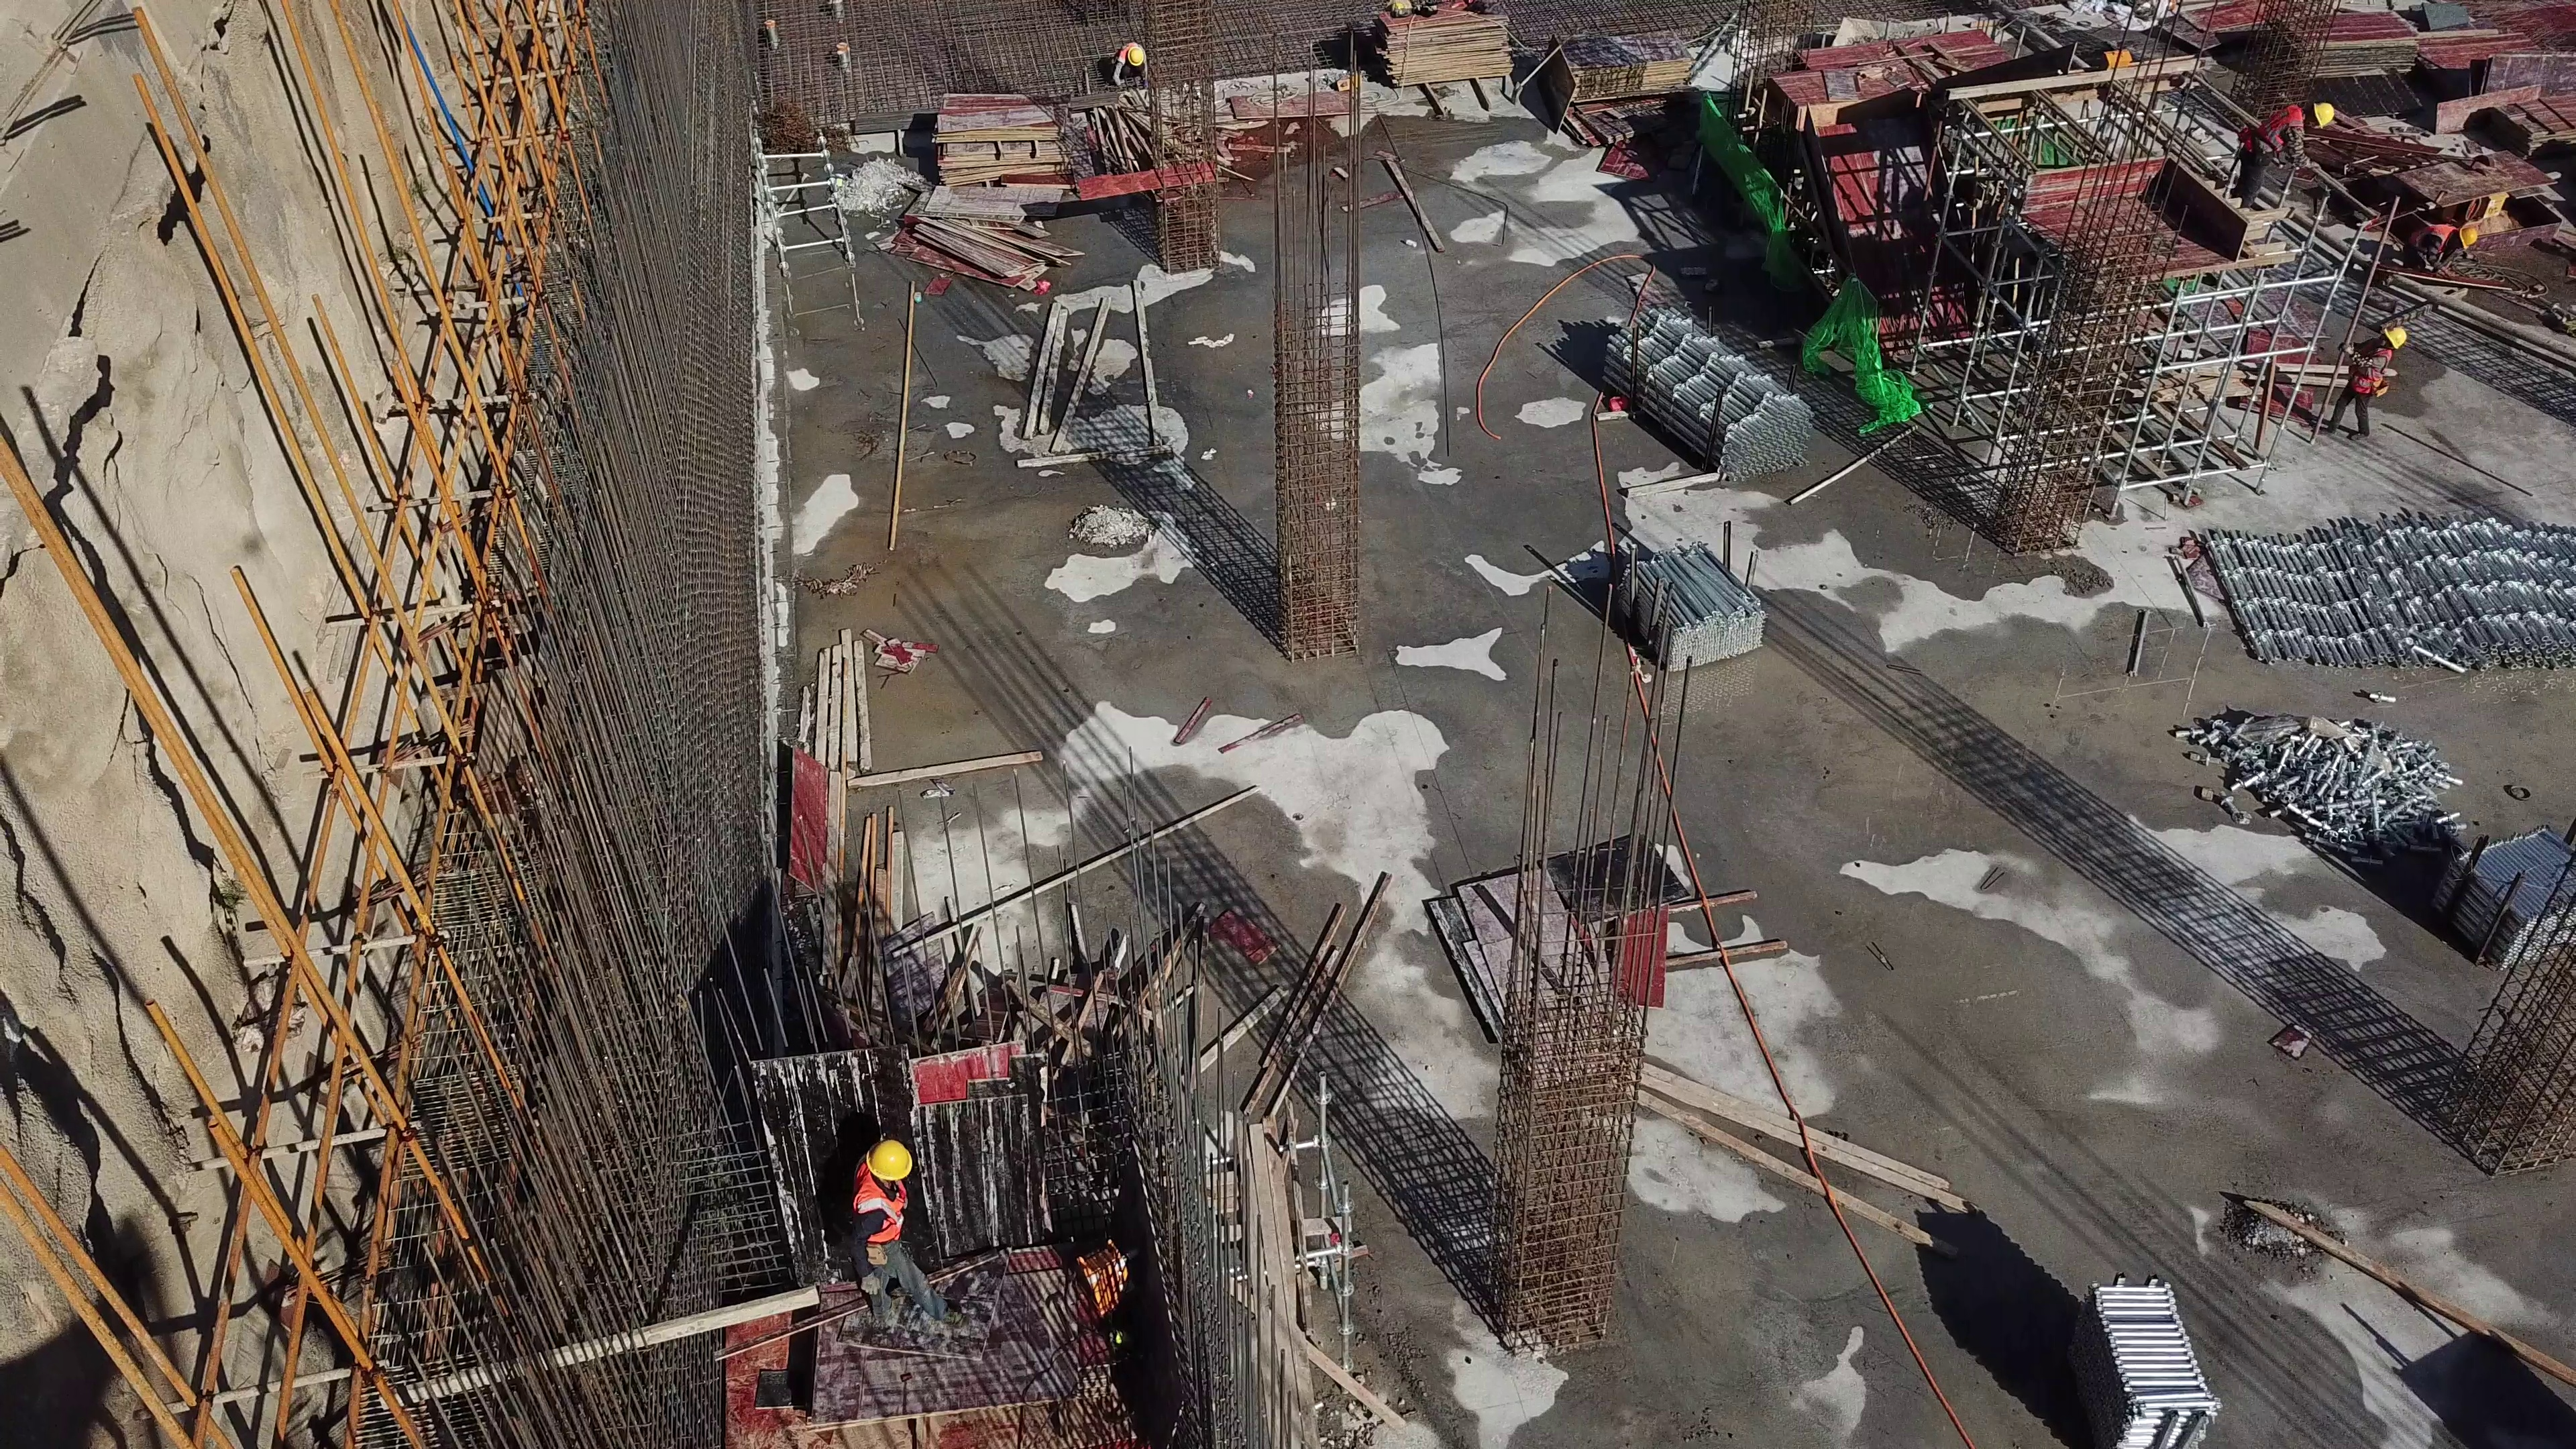board: (1415, 872, 1603, 1041), (1550, 851, 1678, 1016), (1538, 25, 1699, 141), (908, 178, 1067, 294), (928, 89, 1087, 199), (2277, 4, 2426, 91), (1368, 1, 1519, 87), (1222, 94, 1368, 121)
helmet: (865, 1137, 926, 1179), (2381, 323, 2408, 350), (2314, 101, 2334, 132), (2457, 223, 2475, 250), (1127, 47, 1141, 70)
person: (849, 1138, 954, 1341), (2233, 98, 2336, 211), (2334, 319, 2400, 441), (2404, 223, 2479, 272), (1106, 38, 1150, 91)
scaffold: (2186, 509, 2576, 672), (1586, 298, 1823, 496), (2183, 692, 2440, 857), (2073, 1263, 2214, 1449), (2413, 822, 2576, 964), (1595, 535, 1765, 667)
vest: (852, 1169, 912, 1258), (2239, 102, 2302, 163), (2351, 342, 2392, 396), (2409, 225, 2453, 252)
